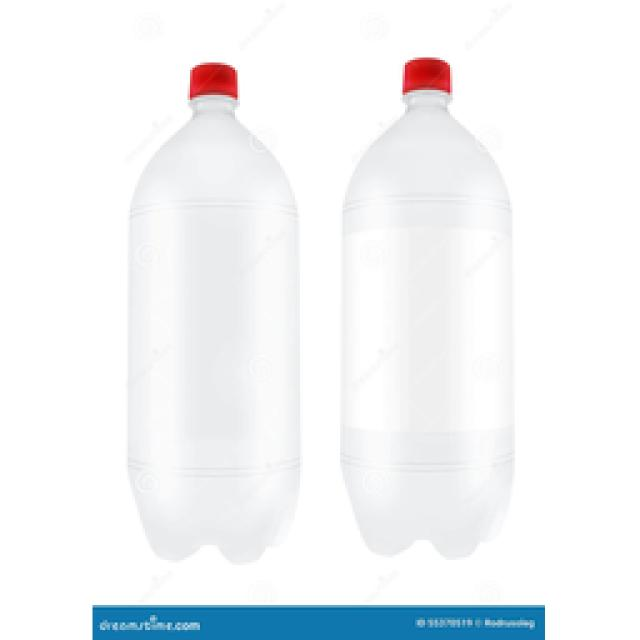plastic_water_bottles: (122, 59, 308, 565), (338, 55, 517, 558)
